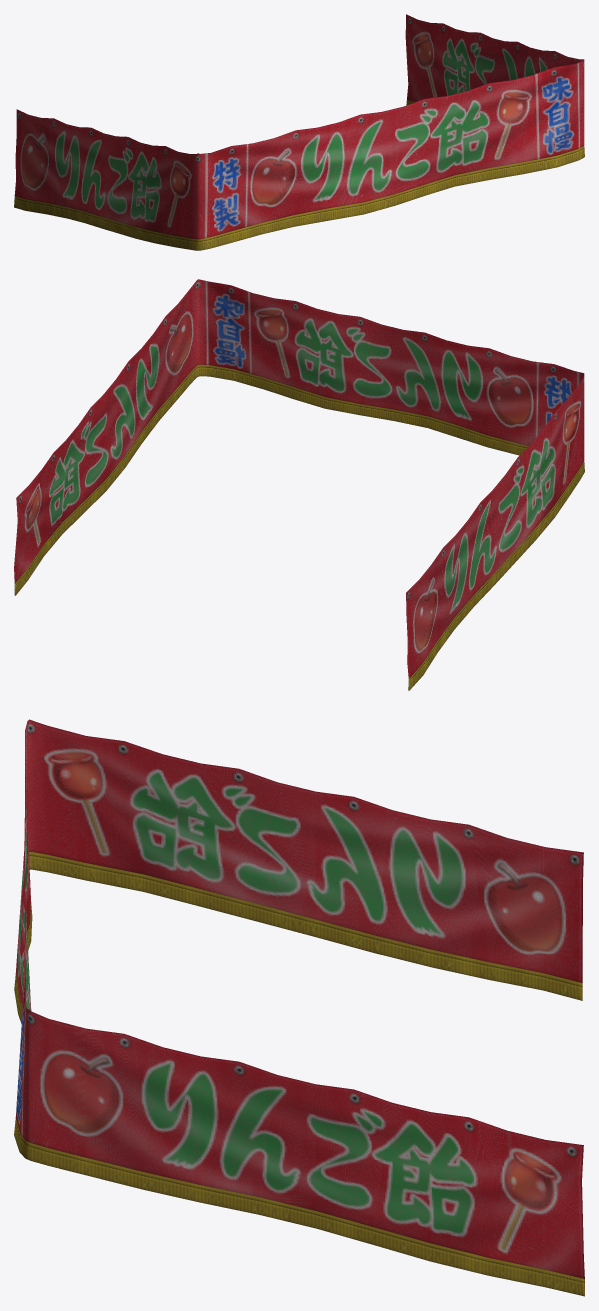
The model's file is jsf_ShopCurtain_AppleCandy_01.fbx.
3 renders of one model, top to bottom at view 1: azimuth 30°, elevation 25°; view 2: azimuth 150°, elevation 25°; view 3: azimuth 270°, elevation 25°, orthographic. The views are drawn at different scales.
Parts seen in each view (by area): view 1: jsf_ShopCurtain_AppleCandy_01; view 2: jsf_ShopCurtain_AppleCandy_01; view 3: jsf_ShopCurtain_AppleCandy_01.
Part boxes in pixels (<box>): jsf_ShopCurtain_AppleCandy_01: <box>14,14,584,250</box>; jsf_ShopCurtain_AppleCandy_01: <box>14,279,584,690</box>; jsf_ShopCurtain_AppleCandy_01: <box>14,719,584,1296</box>.
Bounding box in the file's own units: 269 × 119 × 216.
